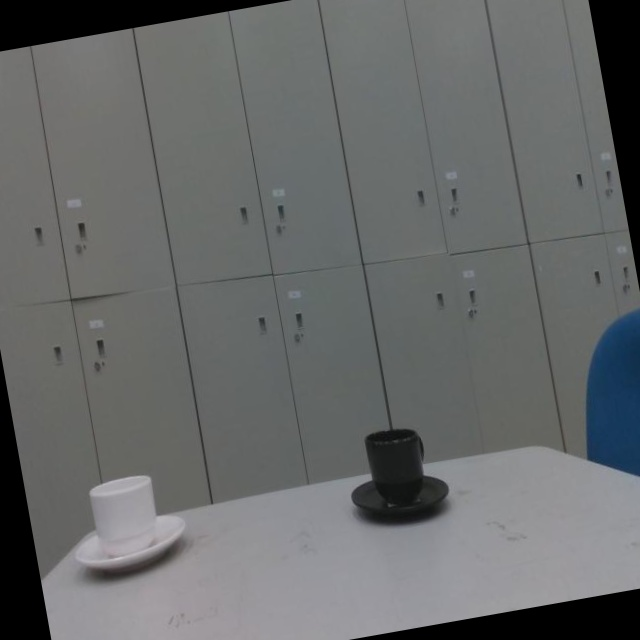black: (346, 420, 447, 529)
white: (67, 459, 188, 580)
